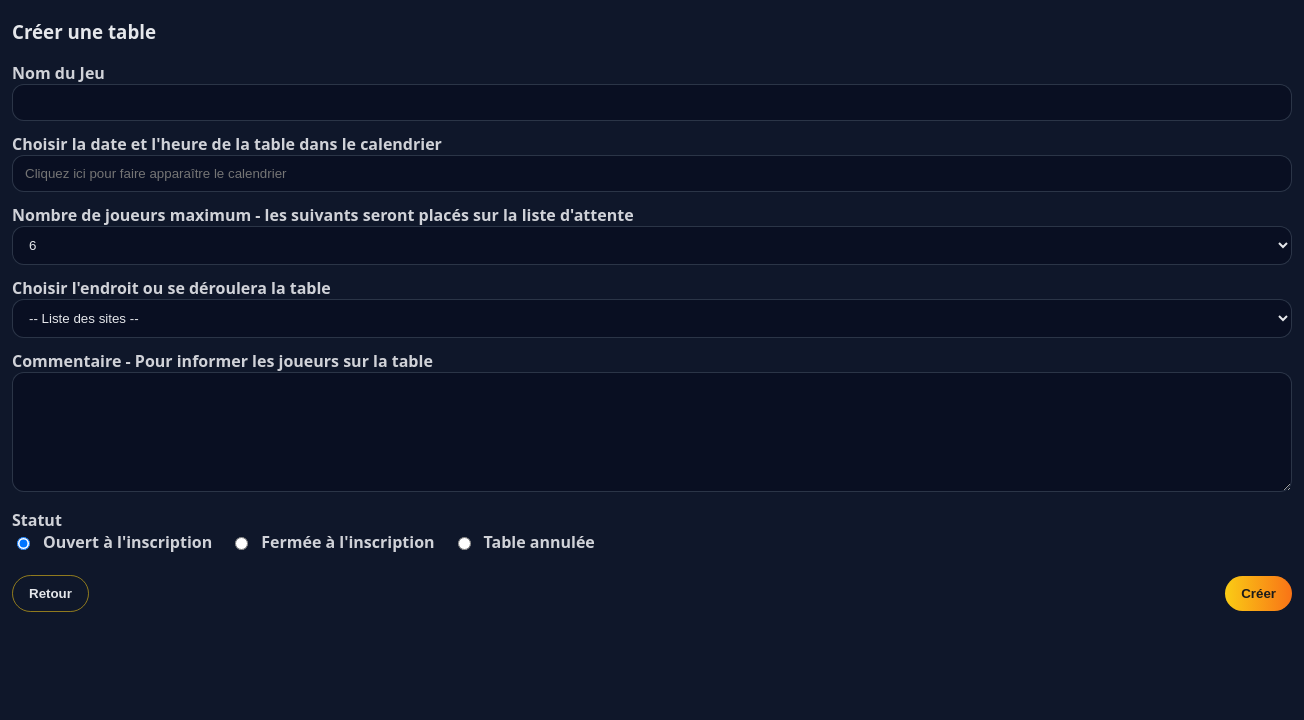
RpgTableForm › validates the create form before submitting
This screenshot has width=1304, height=720.
Type "D&D" into the field labelled "Nom du Jeu" at {"x": 652, "y": 103}, box top-left (12, 84), bottom-right (1292, 121)
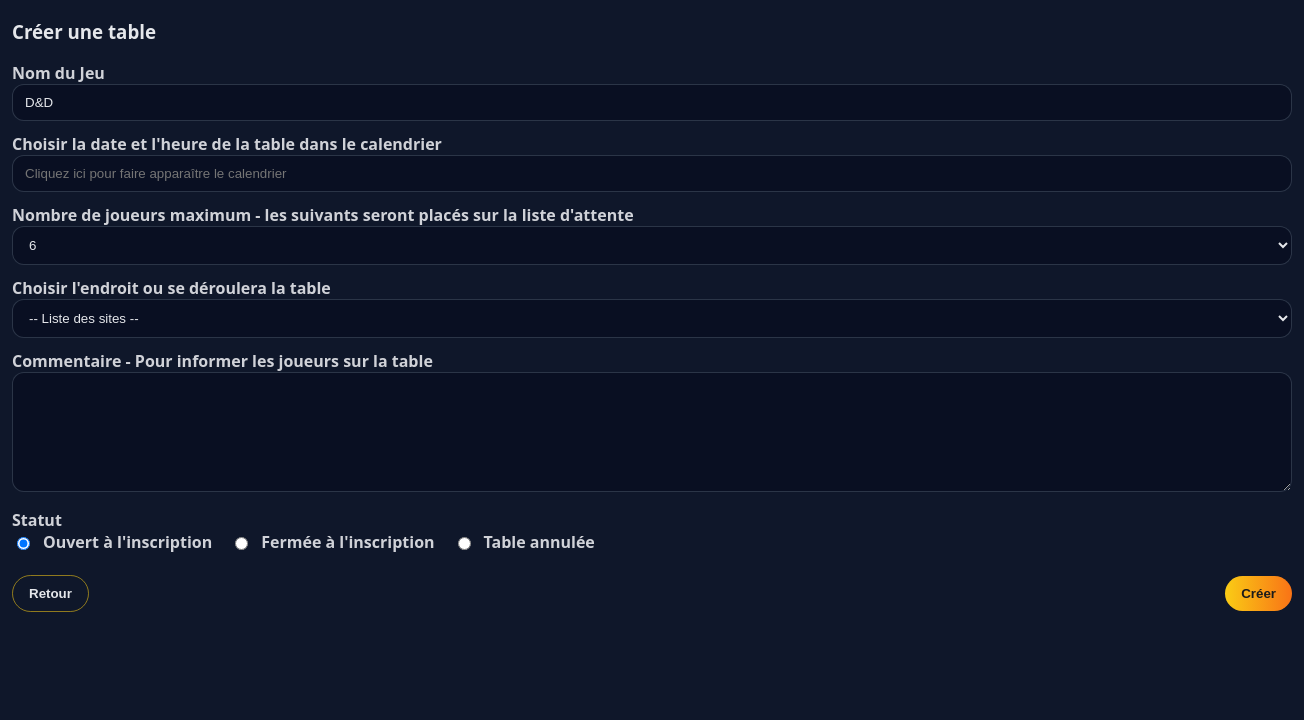
Select "Salle Oxford" in the dropdown labelled "Choisir l'endroit ou se déroulera la table" at {"x": 652, "y": 319}, box top-left (12, 299), bottom-right (1292, 338)
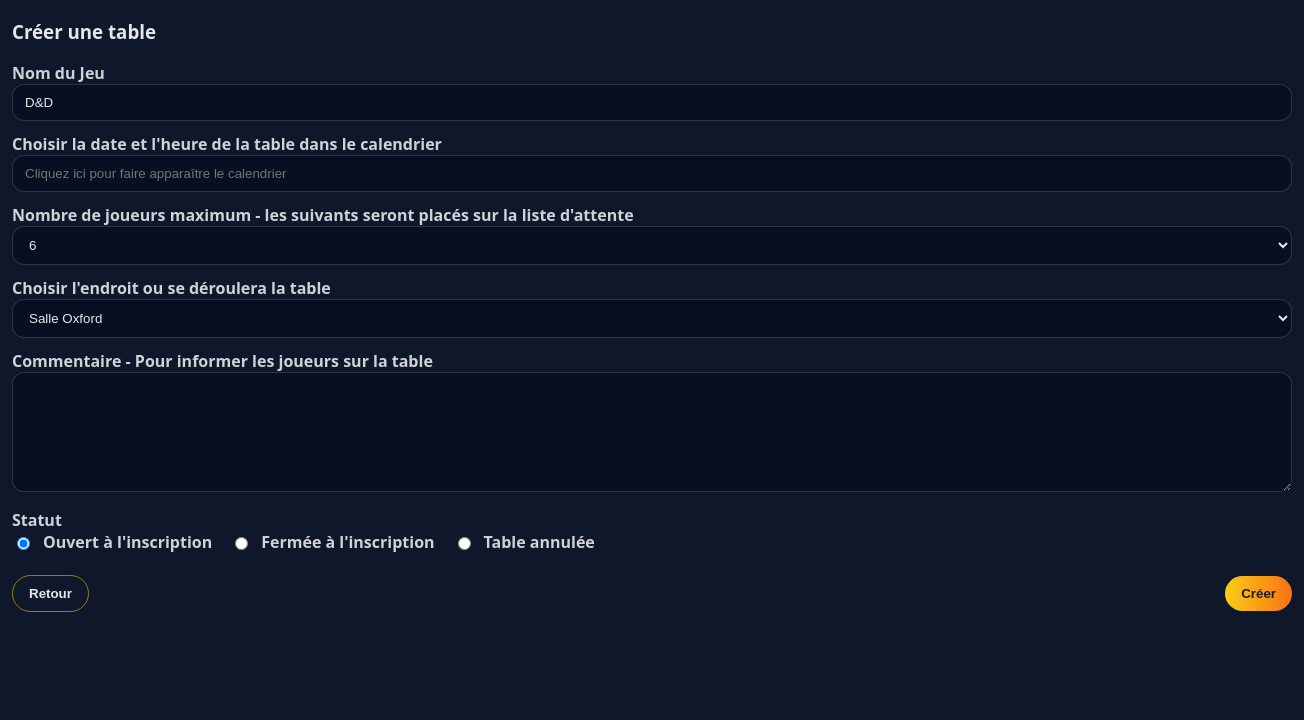
Click the button "Créer" at {"x": 1259, "y": 594}, box top-left (1225, 576), bottom-right (1292, 611)
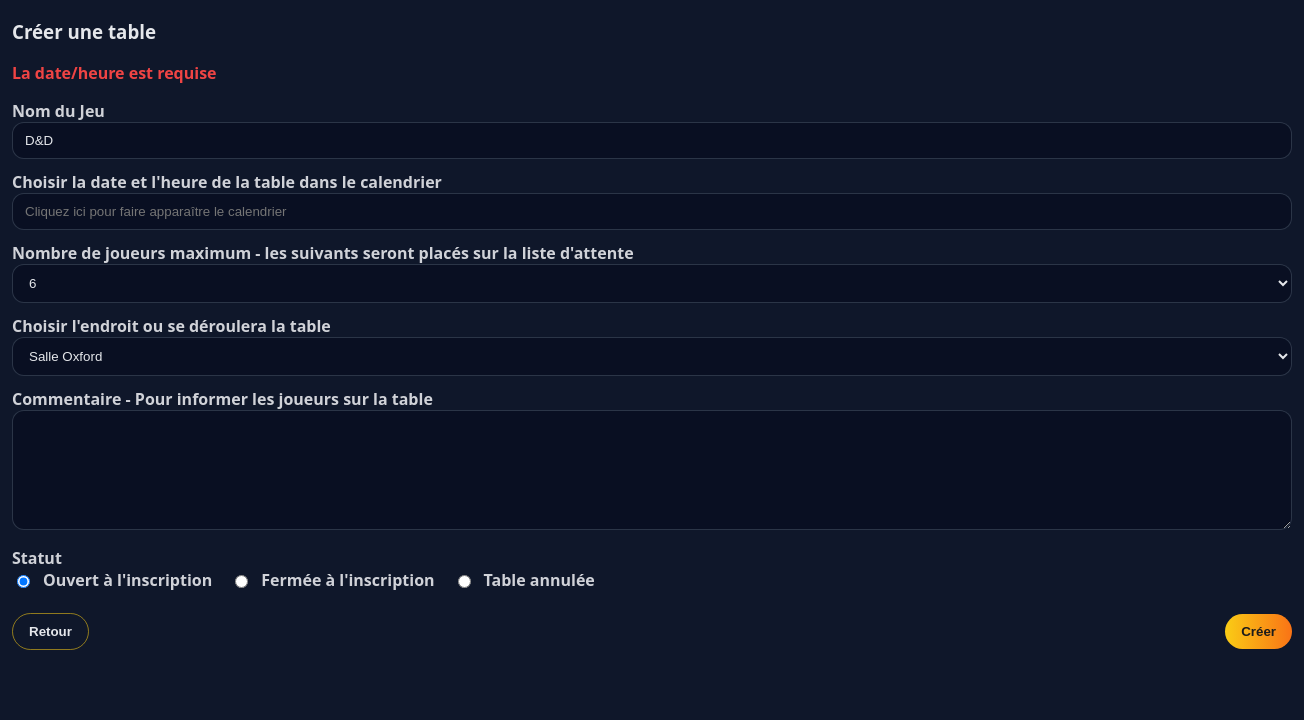
Result: the text "La date/heure est requise" is shown at top-left (12, 62), bottom-right (216, 84)
